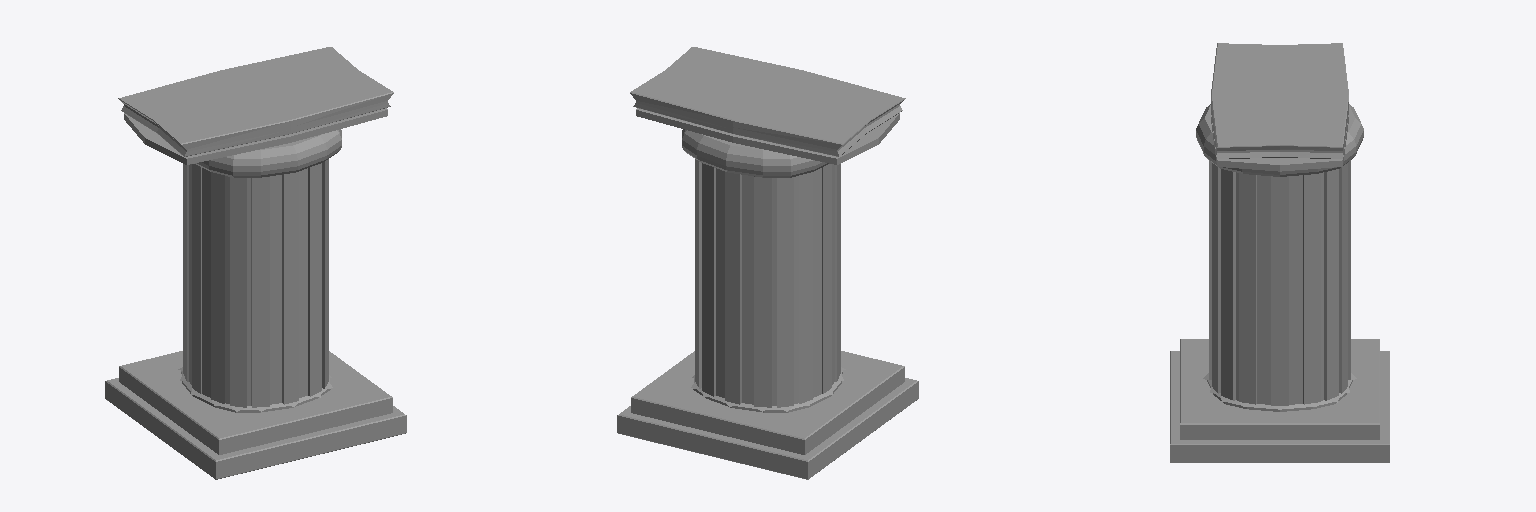
Rendered from peddestaleclean.obj.
The picture shows the model from 3 angles: view 1: azimuth 30°, elevation 25°; view 2: azimuth 150°, elevation 25°; view 3: azimuth 270°, elevation 25°; orthographic projection.
Parts seen in each view (by area): view 1: Cube; view 2: Cube; view 3: Cube.
Part boxes in pixels (x1,y1,x2,y2): Cube: (105,47,406,479); Cube: (617,47,918,479); Cube: (1170,43,1389,462).
Bounding box in the file's own units: 2.55 × 3.54 × 2.2.